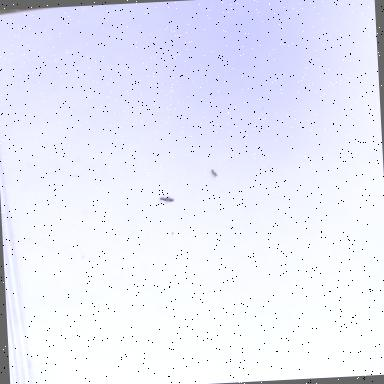pbw: (209, 168, 219, 180)
